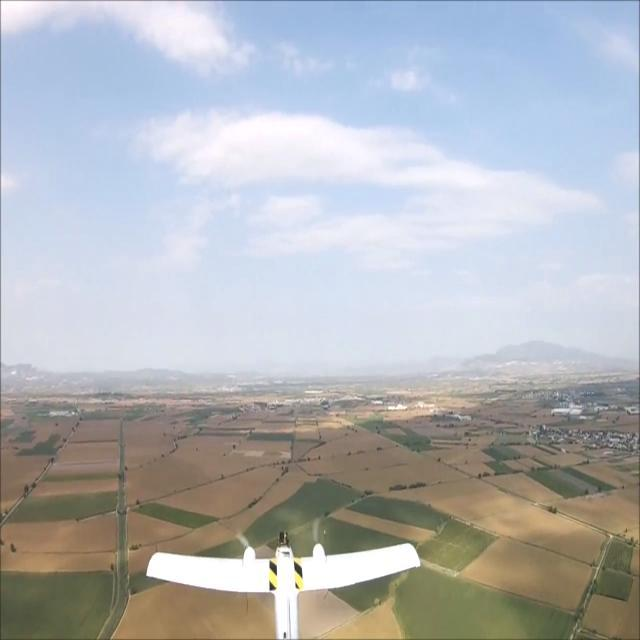iha: (154, 548, 415, 608)
